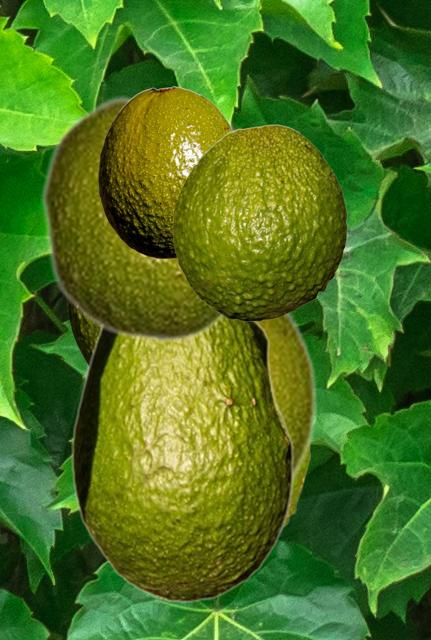avocado: (71, 319, 293, 602), (40, 88, 240, 344), (83, 311, 318, 489), (172, 124, 346, 320), (98, 86, 232, 257), (66, 301, 98, 365), (283, 454, 309, 531)
